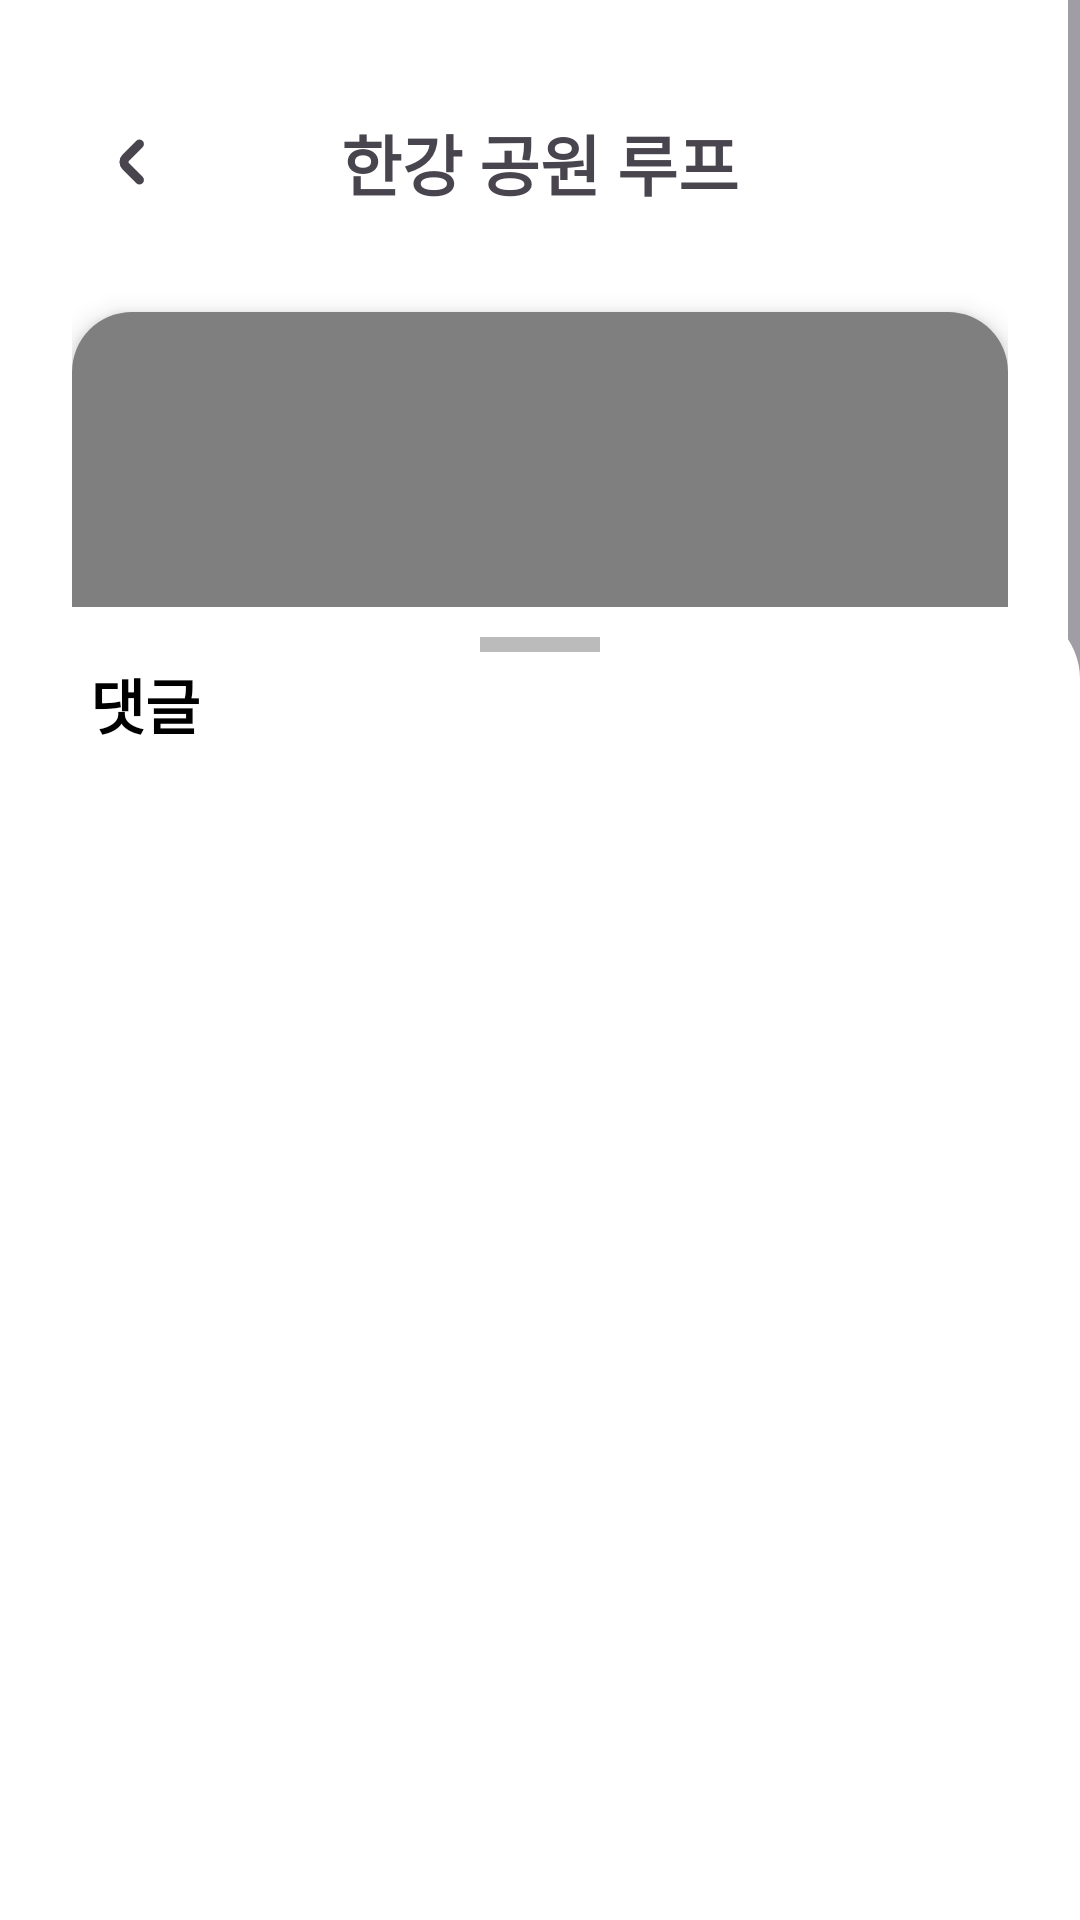

Locate icon controls on the screen. Image size 1080 x 1920, boxes as (x1, y1, x2, y2).
back: (119, 139, 144, 185)
